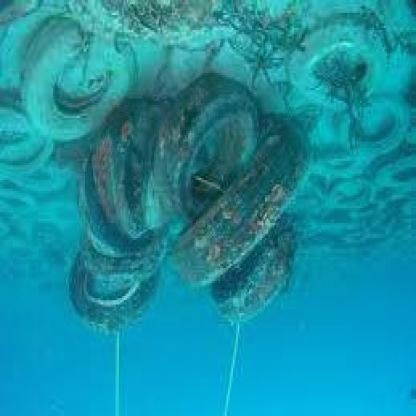net: (212, 319, 241, 416), (104, 332, 127, 416)
tire: (174, 110, 305, 290), (146, 64, 244, 236), (12, 15, 142, 139), (185, 223, 300, 317), (67, 158, 156, 276), (89, 96, 158, 246), (68, 240, 160, 328), (270, 20, 374, 96), (312, 178, 404, 249), (334, 86, 397, 152), (2, 131, 54, 189), (368, 148, 416, 184)
